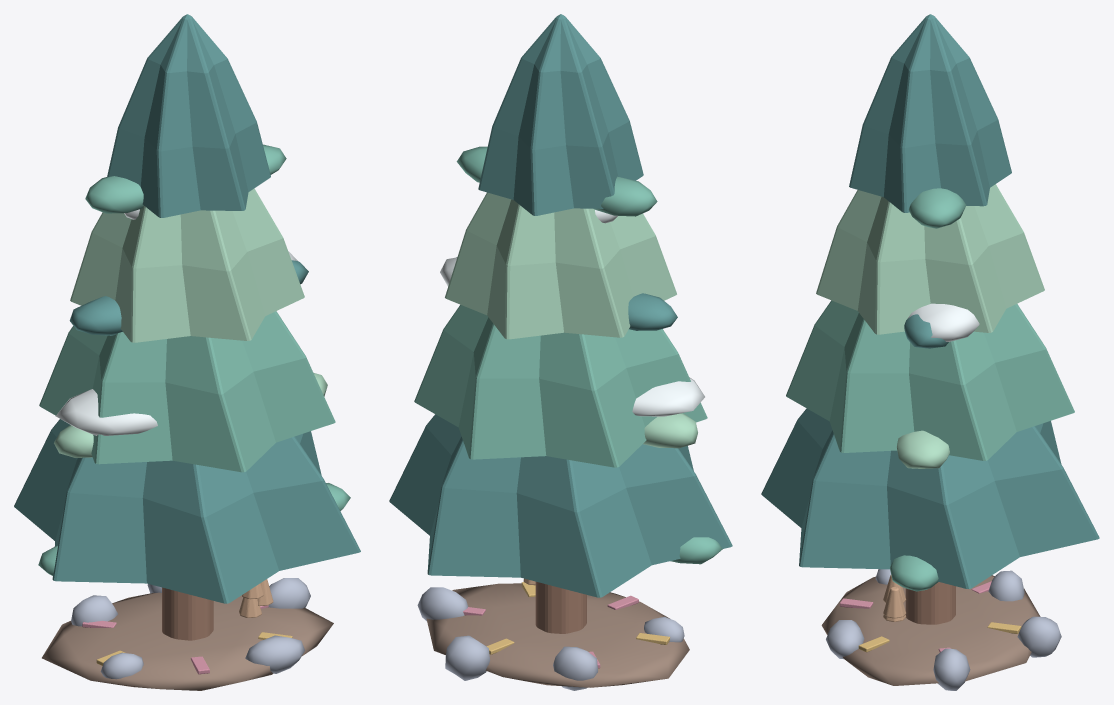
File: northern_pine_a.glb
3 renders of one model, left to right at view 1: azimuth 30°, elevation 25°; view 2: azimuth 150°, elevation 25°; view 3: azimuth 270°, elevation 25°, orthographic. The views are drawn at different scales.
Parts seen in each view (by area): view 1: northern_pine_a.001; view 2: northern_pine_a.001; view 3: northern_pine_a.001.
Boxes of the visible parts, left/top/right/bottom form: northern_pine_a.001: left=14, top=14, right=360, bottom=690; northern_pine_a.001: left=389, top=14, right=732, bottom=690; northern_pine_a.001: left=761, top=14, right=1099, bottom=690.
Size of the model in its own units: 6.29 by 12.55 by 6.15.
